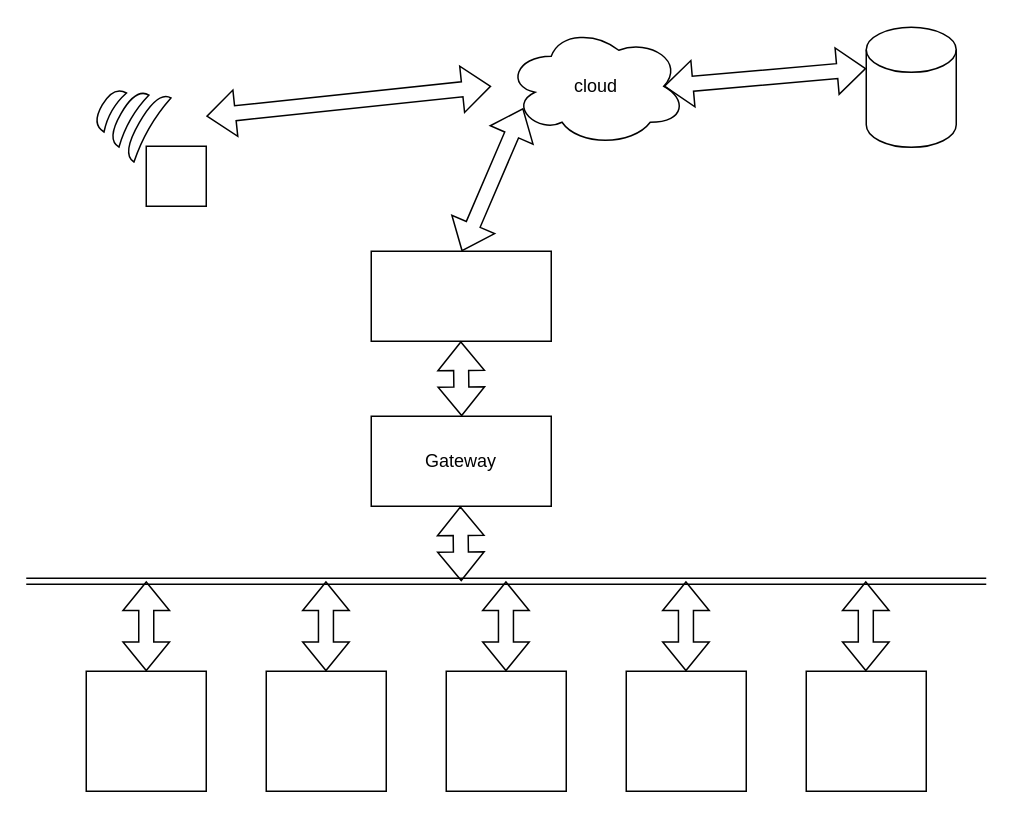
This 1013x818 diagram has some shape labels left out. The centre of each missing label's shape, as x and y in pixels:
Router: the point at 460,295
SQL: the point at 910,86
